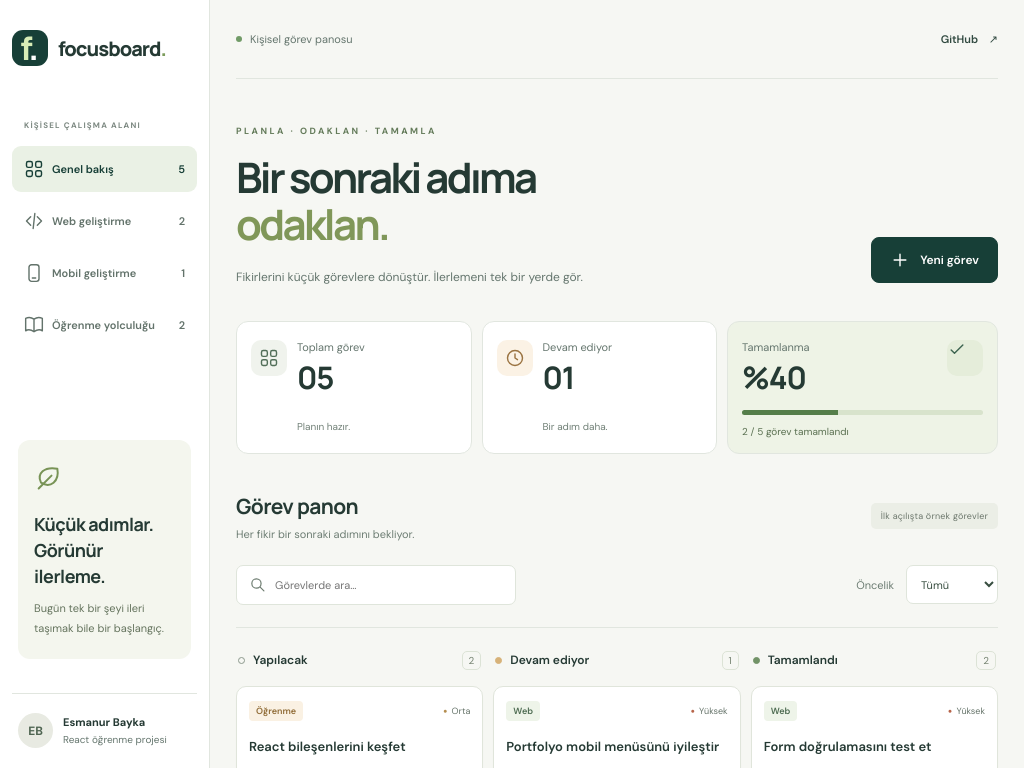
Scenario: task board user journeys › shows an empty search state and clears filters
Type "bulunmayan-görev" into the search field.
click(389, 584); type("bulunmayan-görev")  # box [275, 566, 503, 604]
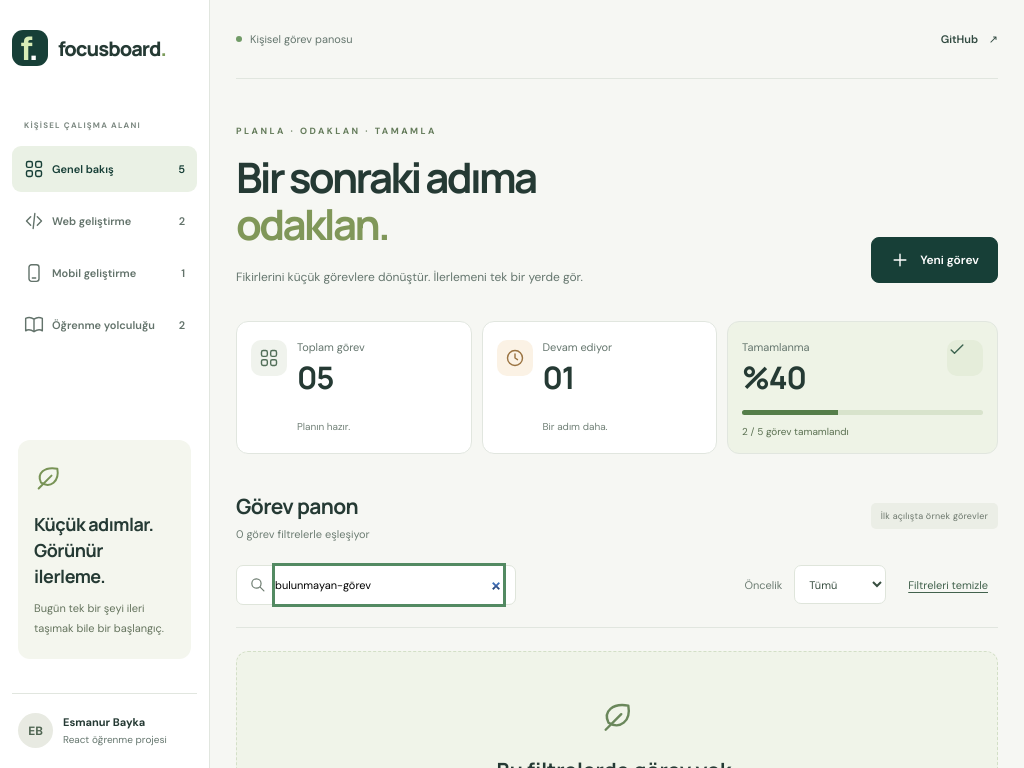
Click the button "Filtreleri temizle".
click(948, 584)  # box [898, 564, 998, 604]
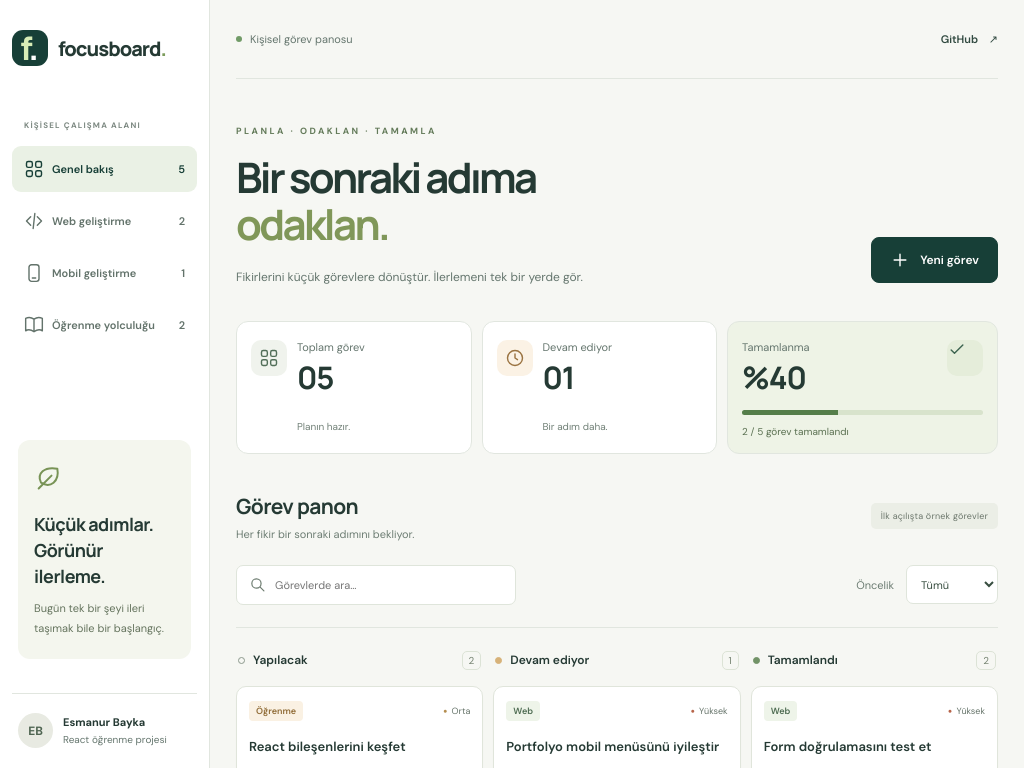
Check: the heading "React bileşenlerini keşfet" is shown, box [249, 738, 406, 754]
